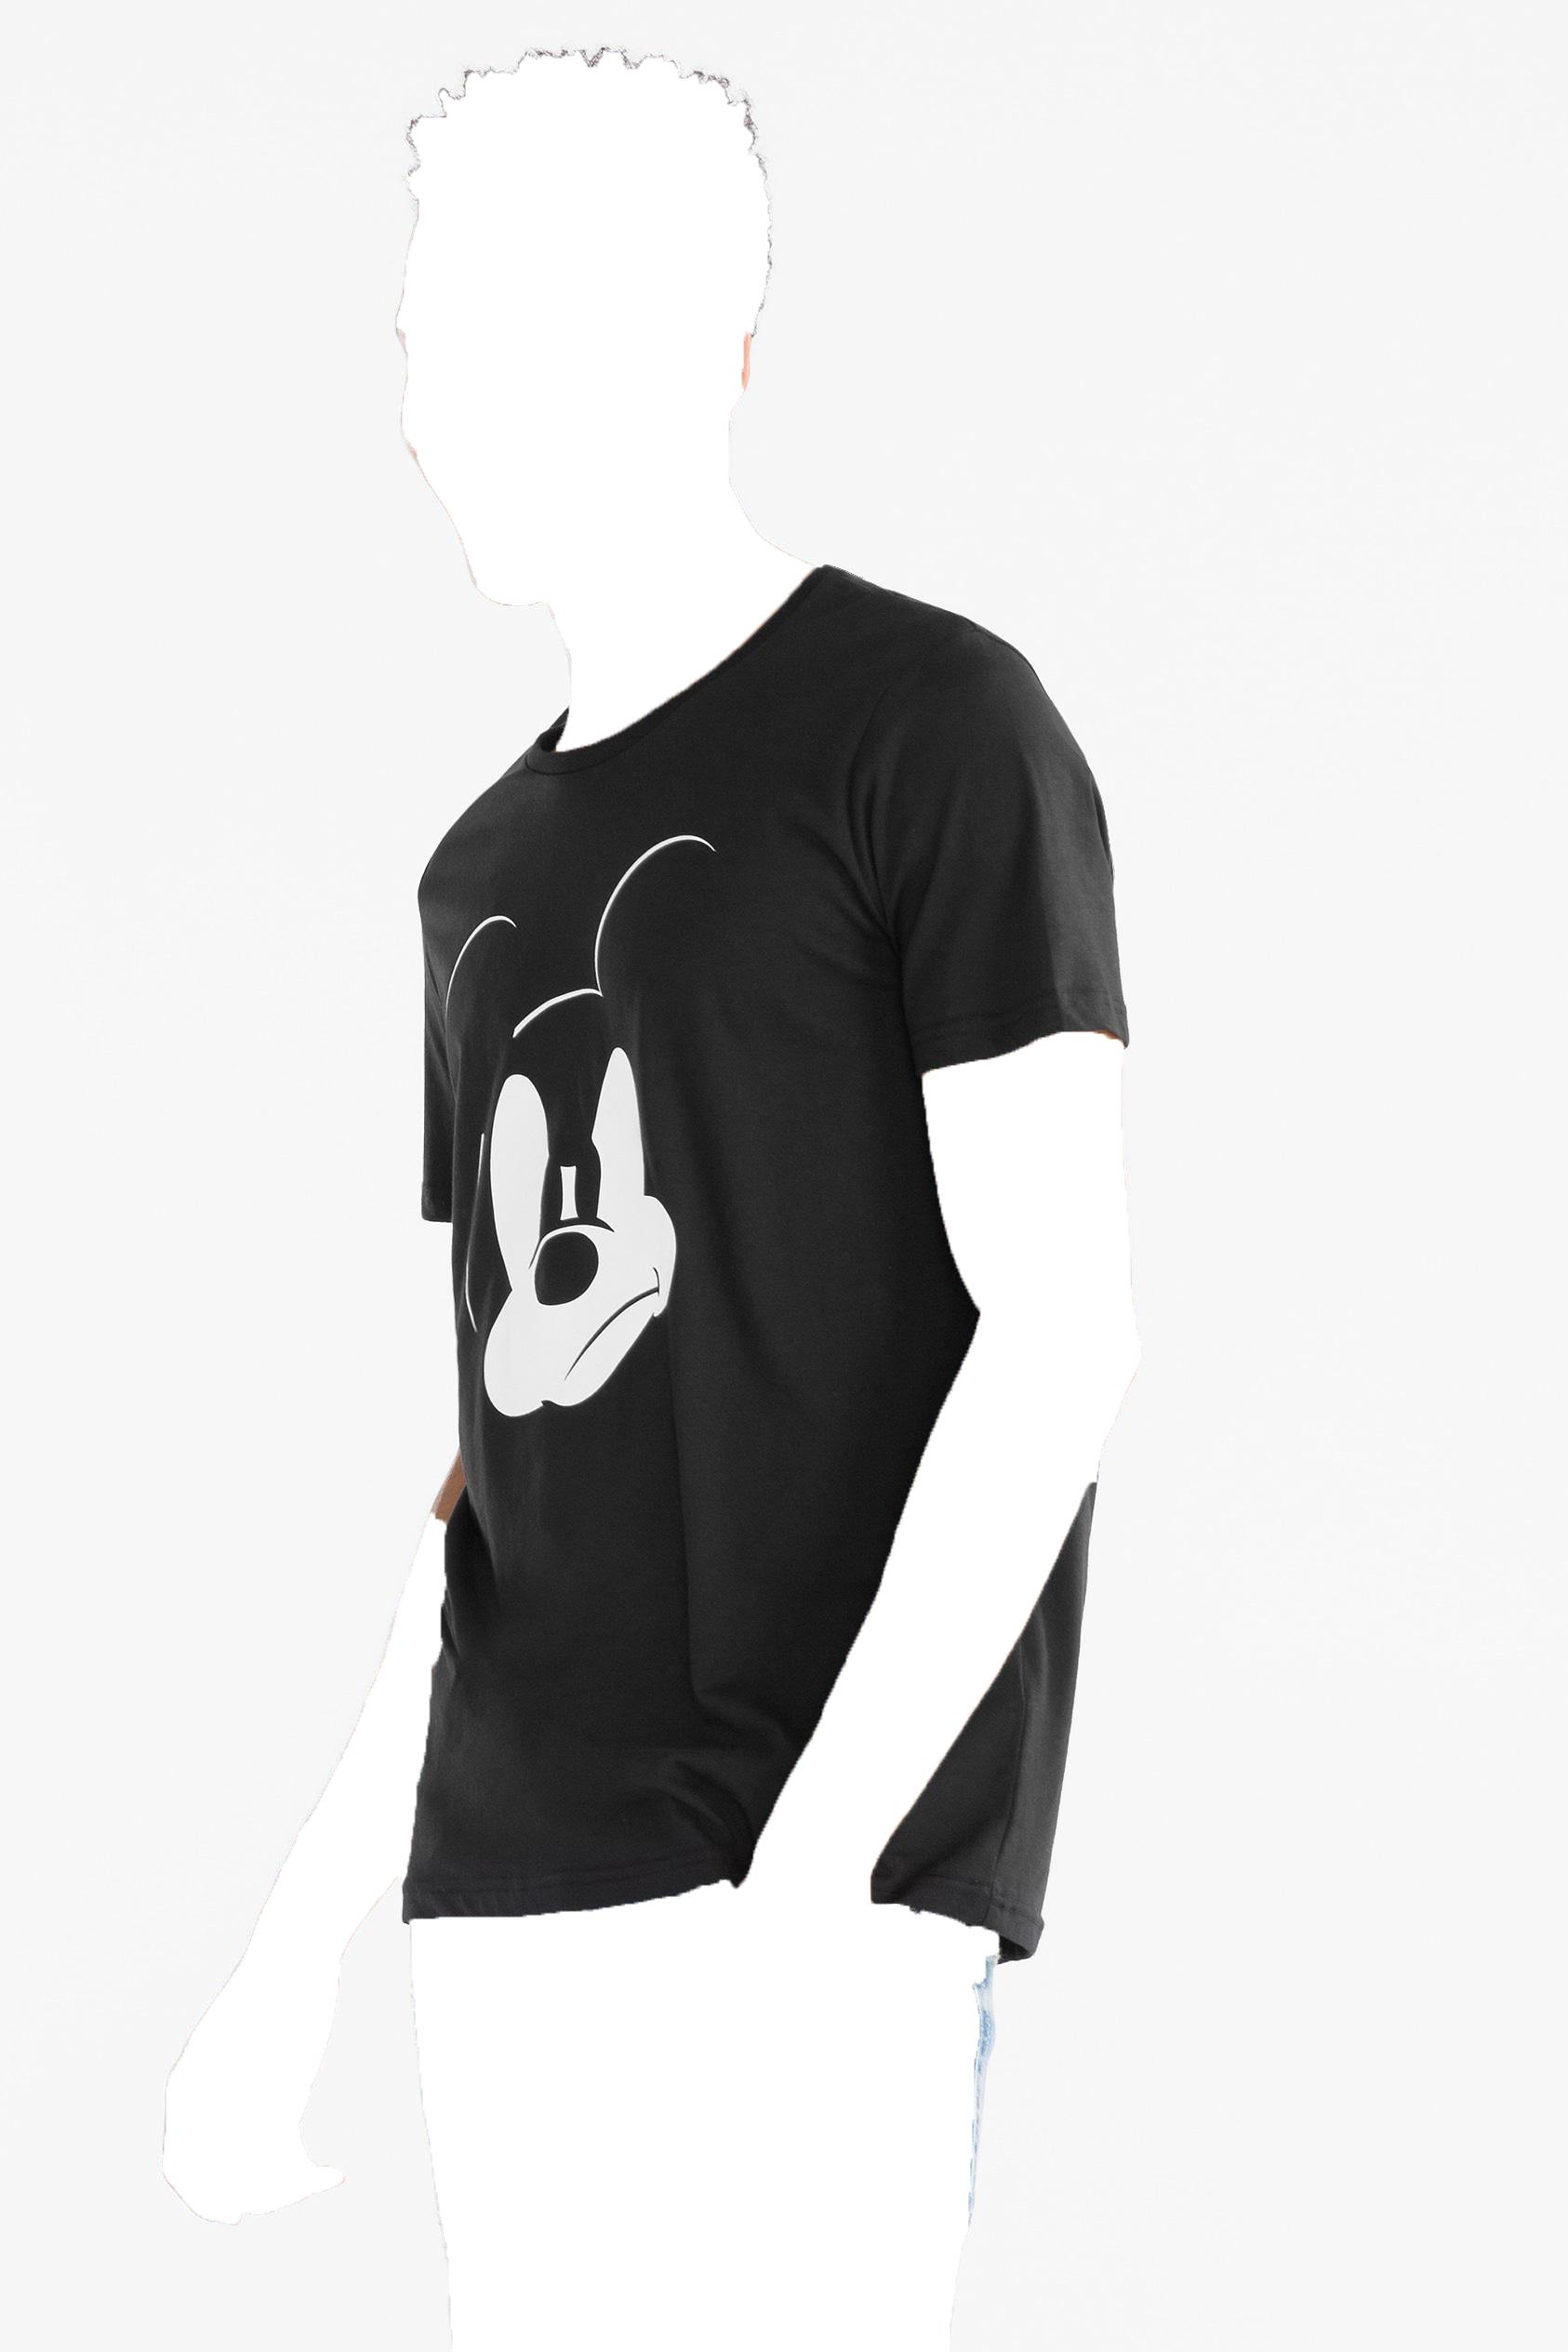teeshirt: (364, 563, 1190, 1977)
